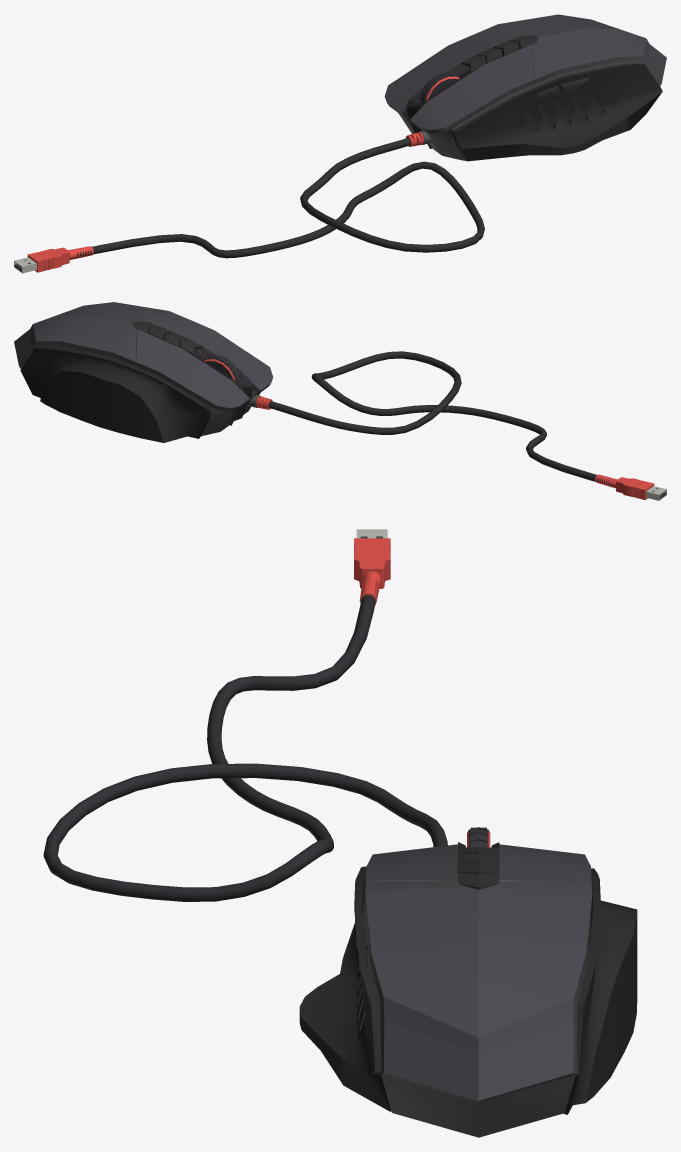
File: Mouse.fbx
The picture shows the model from 3 angles, top to bottom: view 1: azimuth 30°, elevation 25°; view 2: azimuth 150°, elevation 25°; view 3: azimuth 270°, elevation 25°; orthographic projection. The views are drawn at different scales.
Visible parts, largest first — view 1: polySurface15, polySurface8, pCylinder4, polySurface10, polySurface11, polySurface6, pCube88, pCube10, pCylinder2, pCube16; view 2: pCube9, polySurface8, pCylinder4, polySurface11, polySurface10, polySurface6, pCube10, pCube88, pCylinder2; view 3: polySurface8, pCylinder4, pCube9, polySurface15, polySurface6, polySurface11, polySurface10, pCube88.
Boxes of the visible parts, <box> form: polySurface15: <box>451,63,662,161</box>; polySurface8: <box>473,14,666,86</box>; pCylinder4: <box>77,138,484,258</box>; polySurface10: <box>410,44,534,133</box>; polySurface11: <box>384,35,520,114</box>; polySurface6: <box>398,61,643,160</box>; pCube88: <box>27,247,69,272</box>; pCube10: <box>406,63,472,148</box>; pCylinder2: <box>421,72,459,100</box>; pCube16: <box>536,77,589,99</box>; pCube9: <box>20,347,210,442</box>; polySurface8: <box>14,302,191,368</box>; pCylinder4: <box>268,351,608,484</box>; polySurface11: <box>135,329,249,411</box>; polySurface10: <box>148,321,273,393</box>; polySurface6: <box>35,344,260,436</box>; pCube10: <box>192,347,253,425</box>; pCube88: <box>616,477,654,499</box>; pCylinder2: <box>204,355,239,381</box>; polySurface8: <box>365,880,592,1102</box>; pCylinder4: <box>43,595,447,901</box>; pCube9: <box>563,868,637,1114</box>; polySurface15: <box>299,866,391,1111</box>; polySurface6: <box>366,880,590,1137</box>; polySurface11: <box>499,844,591,880</box>; polySurface10: <box>366,844,457,880</box>; pCube88: <box>354,538,390,588</box>.
Bounding box in the file's own units: 39.19 × 4.56 × 16.19.
